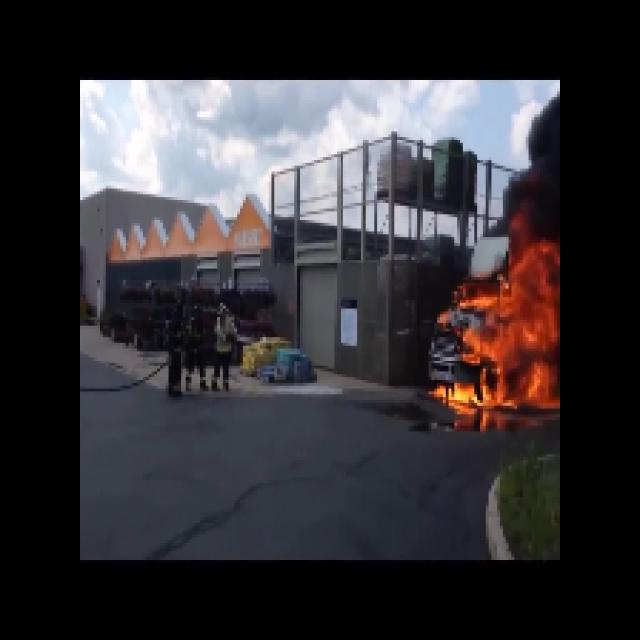fire: (475, 261, 556, 413)
smoke: (528, 128, 555, 230)
